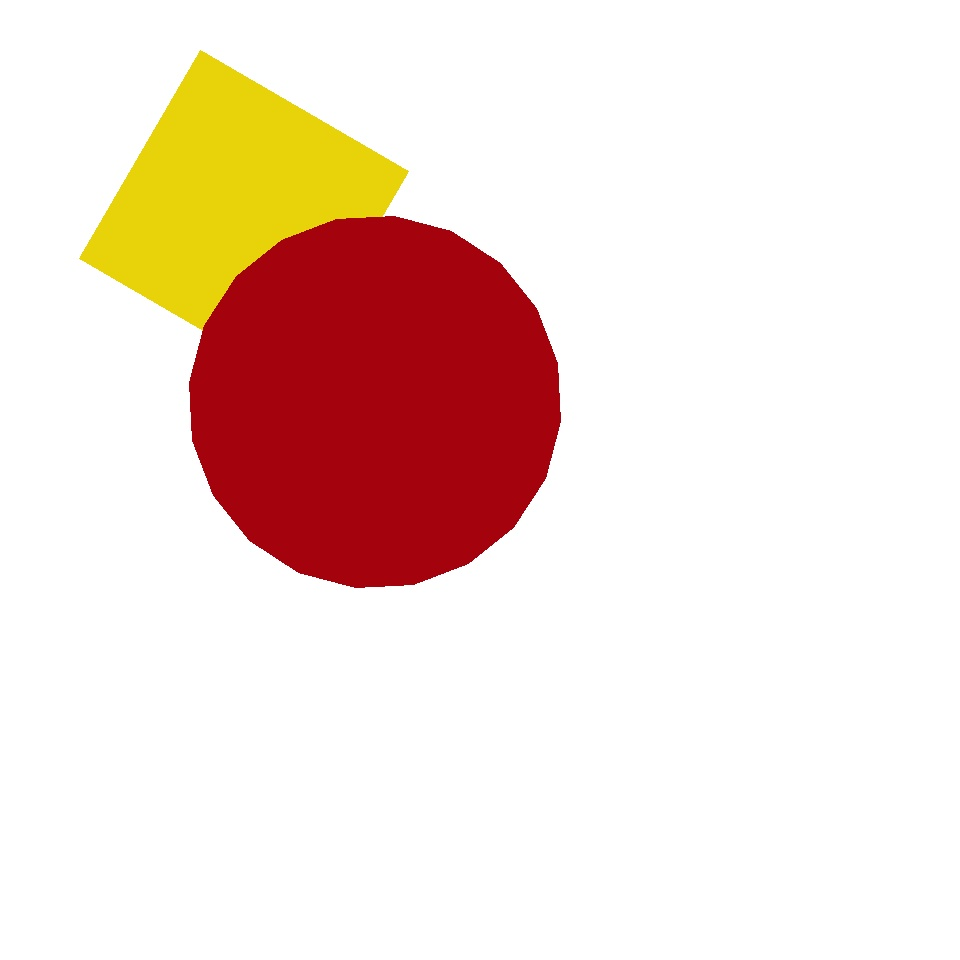circle: (31, 373, 343, 648), (98, 165, 384, 457)
square: (79, 51, 408, 380)
triangle: (190, 216, 560, 588), (578, 253, 744, 418)
